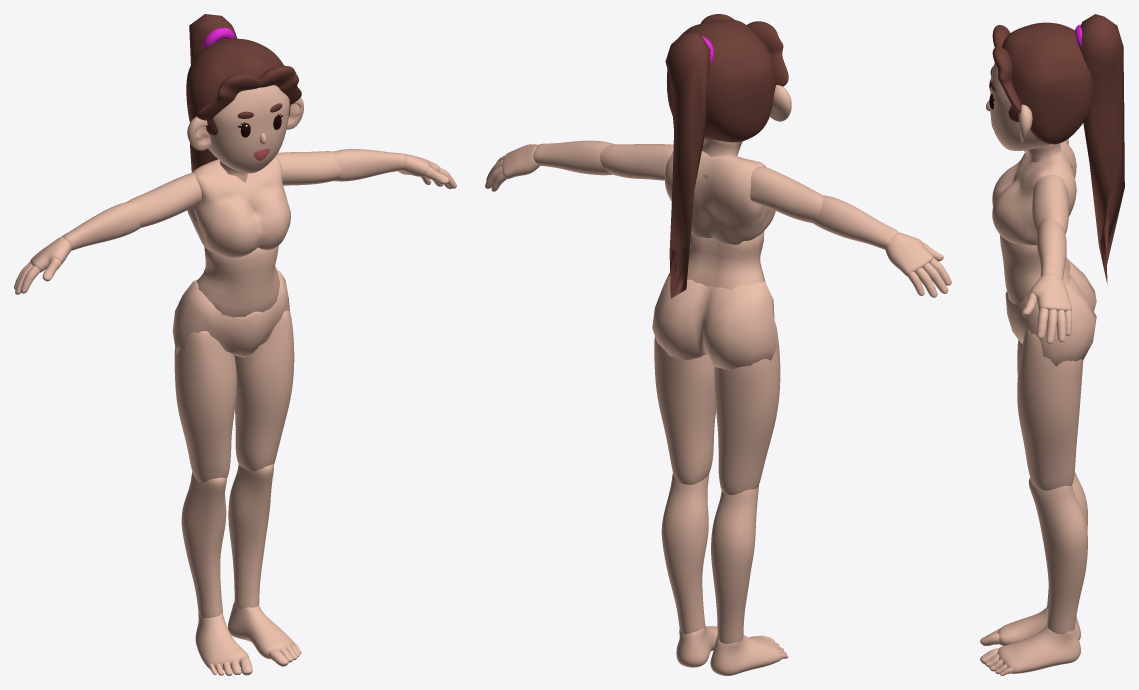
The model's file is female_model3.glb.
3 renders of one model, left to right at view 1: azimuth 30°, elevation 25°; view 2: azimuth 150°, elevation 25°; view 3: azimuth 270°, elevation 25°, orthographic. The views are drawn at different scales.
Parts seen in each view (by area): view 1: leg.001, chest 1.001, foot.001, head.003, pelvis.001, arm.001, Icosphere.004, arm 2.001, hand.001, Cube.008, Icosphere.005, ears.003; view 2: leg.001, chest 1.001, pelvis.001, Icosphere.004, Icosphere.005, arm.001, arm 2.001, hand.001, foot.001, Cube.008; view 3: leg.001, Icosphere.004, Icosphere.005, chest 1.001, foot.001, pelvis.001, hand.001, head.003, arm.001, arm 2.001, Cube.008, neck.001 (+1 smaller).
Boxes of the visible parts, x1,y1,x2,y2 form: leg.001: [174, 309, 294, 618]; chest 1.001: [187, 156, 290, 317]; foot.001: [195, 602, 301, 675]; head.003: [208, 85, 289, 173]; pelvis.001: [172, 270, 289, 357]; arm.001: [127, 151, 341, 227]; Icosphere.004: [186, 38, 290, 135]; arm 2.001: [61, 149, 407, 250]; hand.001: [14, 153, 456, 294]; Cube.008: [196, 65, 301, 120]; Icosphere.005: [189, 14, 237, 172]; ears.003: [187, 97, 303, 150]; leg.001: [654, 321, 780, 643]; chest 1.001: [665, 151, 775, 289]; pelvis.001: [652, 273, 776, 370]; Icosphere.004: [666, 19, 776, 142]; Icosphere.005: [665, 32, 710, 298]; arm.001: [600, 144, 822, 223]; arm 2.001: [533, 140, 898, 249]; hand.001: [485, 144, 951, 297]; foot.001: [676, 626, 788, 675]; Cube.008: [700, 14, 788, 86]; leg.001: [1017, 328, 1087, 634]; Icosphere.004: [1002, 22, 1092, 144]; Icosphere.005: [1079, 14, 1124, 284]; chest 1.001: [992, 141, 1076, 304]; foot.001: [980, 607, 1080, 675]; pelvis.001: [1005, 259, 1096, 366]; hand.001: [1021, 273, 1071, 343]; head.003: [990, 62, 1050, 150]; arm.001: [1032, 139, 1068, 234]; arm 2.001: [1036, 218, 1066, 279]; Cube.008: [992, 25, 1021, 113]; neck.001: [1024, 143, 1072, 167].
Size of the model in its own units: 15.33 by 20.67 by 4.25.
